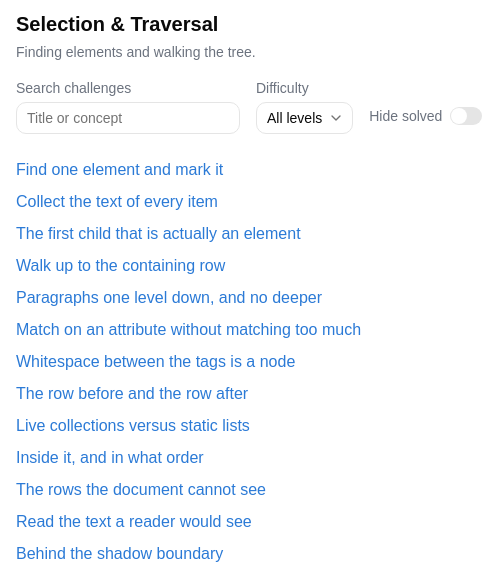
Scenario: FilterBar › takes a solved challenge out of the list when hide-solved is switched on
Expected: the link "Find one element and mark it" is shown, 16,161 -> 223,178
What coordinates should you click on to do the following:
click the switch named "Hide solved"
I would click on:
 (466, 116)
Its box is 450,107 -> 482,125.
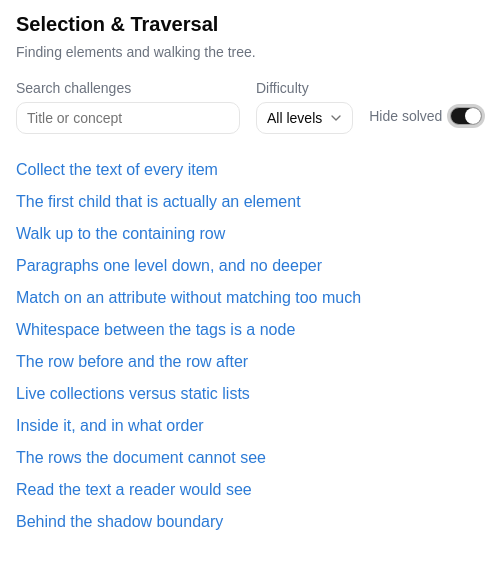
Expected: the link "Collect the text of every item" is shown, 16,161 -> 218,178
Expected: the number of list items is 12
Expected: the link "Find one element and mark it" is gone
